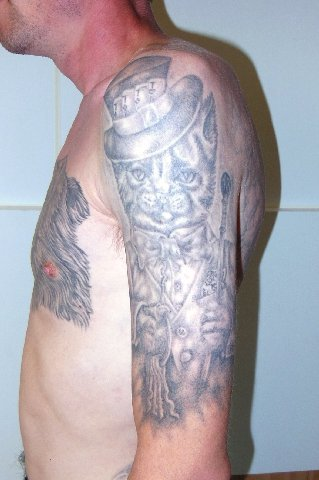tatu8_kot: (102, 53, 241, 433)
